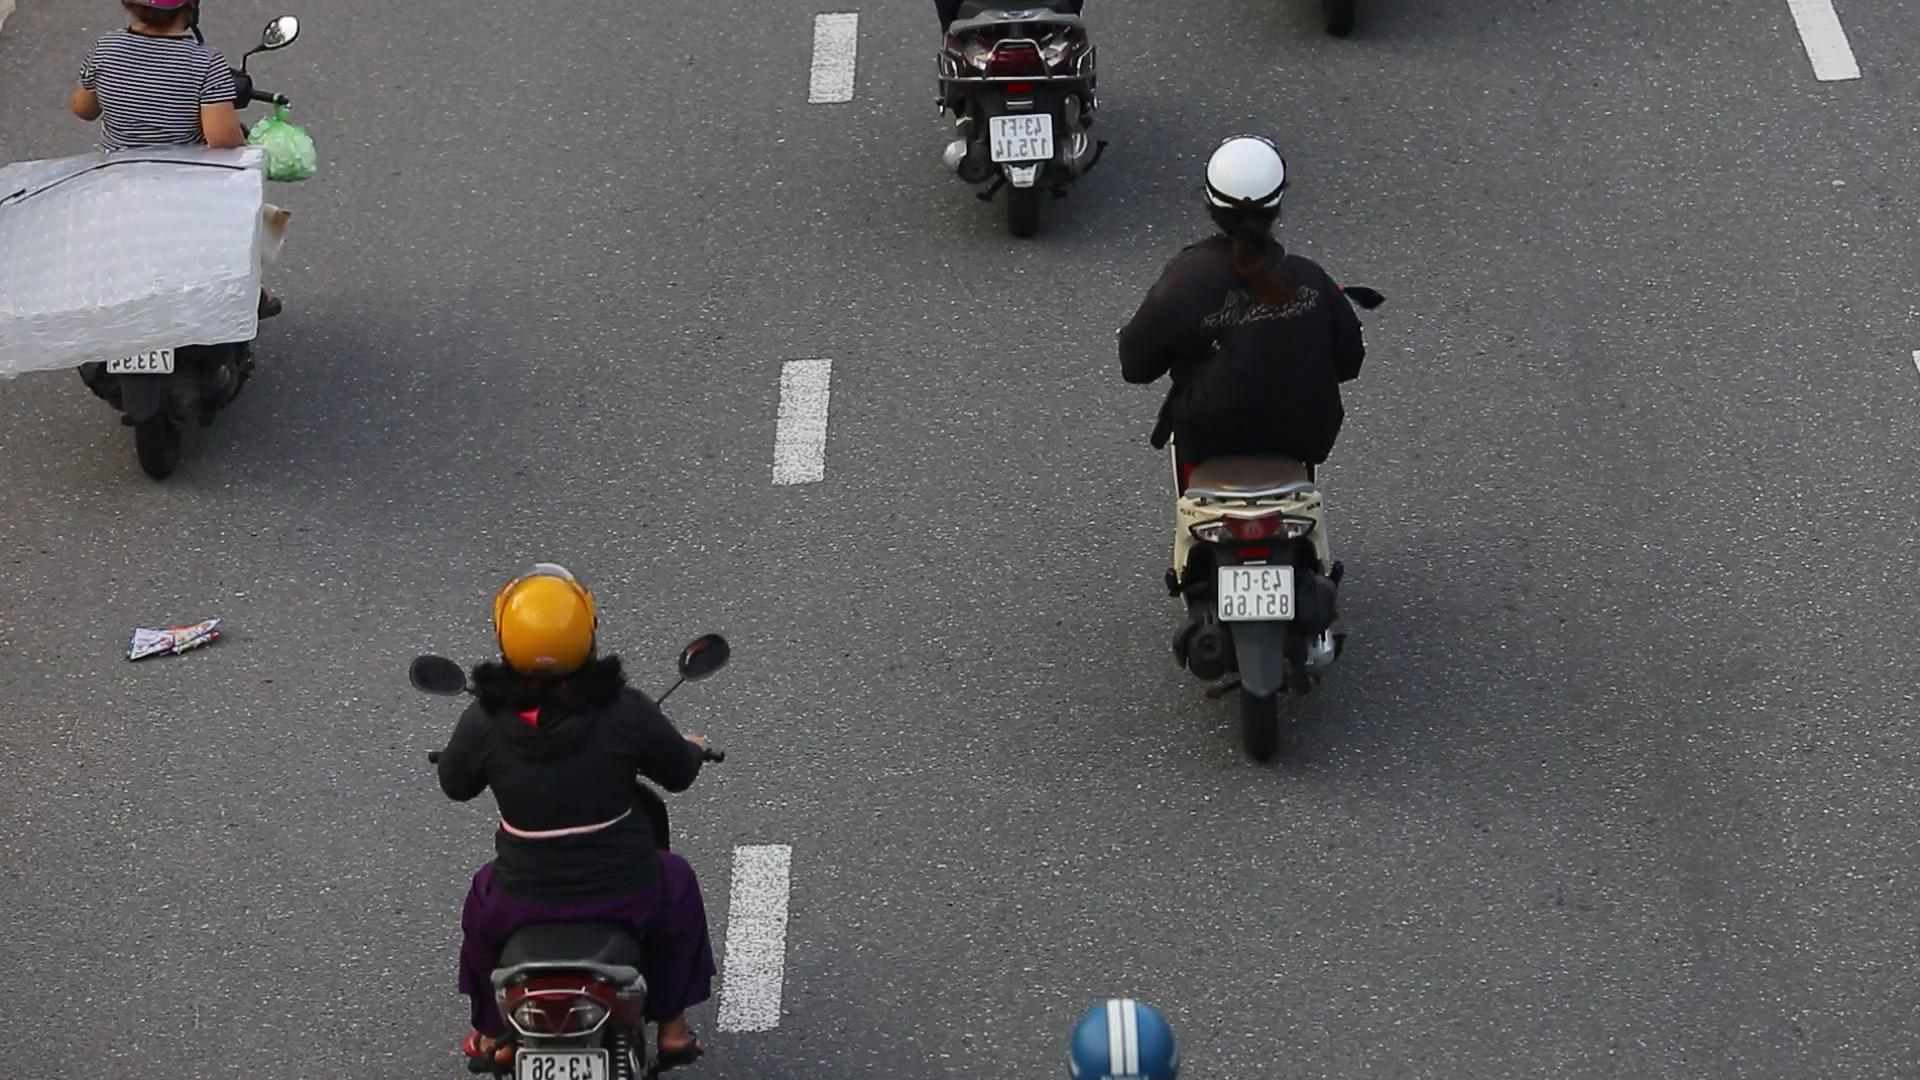motobike: (1113, 132, 1391, 769)
